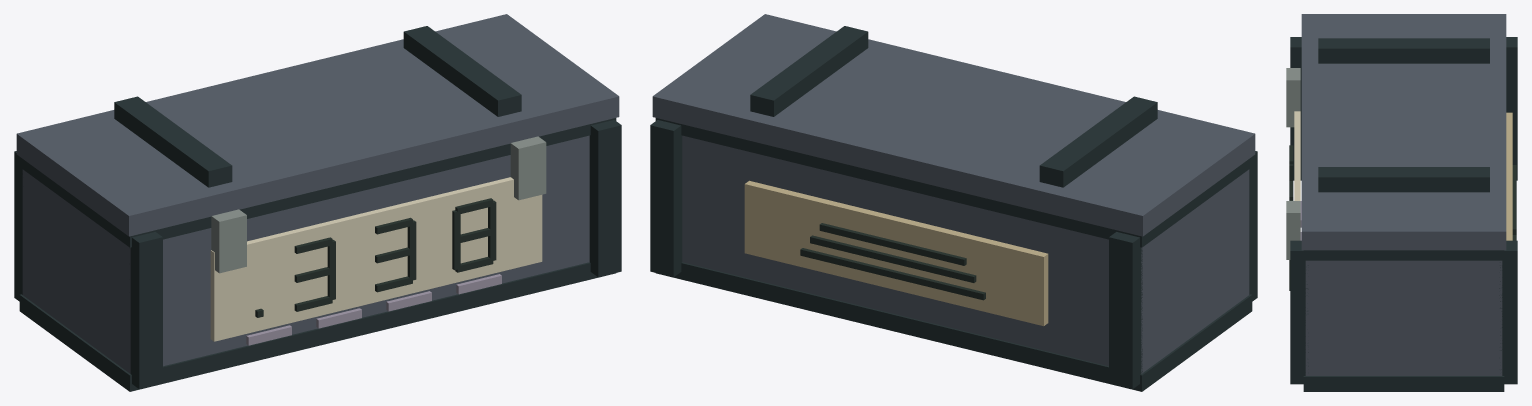
Rendered from FSA_AMMO_Pack_338.glb.
3 views of the same model, side by side, from view 1: azimuth 30°, elevation 25°; view 2: azimuth 150°, elevation 25°; view 3: azimuth 270°, elevation 25° (orthographic). The views are drawn at different scales.
Parts seen in each view (by area): view 1: ClosedLid, Package, LabelPlate, BaseSeam, LidSeam, CornerFront_1, CornerFront_-1, TopRib_-1, TopRib_1, Latch_1, Latch_-1, CornerBack_-1; view 2: ClosedLid, Package, RearPanel, BaseSeam, LidSeam, CornerBack_-1, CornerBack_1, TopRib_-1, TopRib_1, RearLine_0, RearLine_1, RearLine_2 (+1 smaller); view 3: ClosedLid, Package, TopRib_-1, TopRib_1, BaseSeam, CornerBack_1, CornerFront_1, LidSeam, CornerBack_-1, RearPanel, Latch_-1, CornerFront_-1 (+3 smaller).
Boxes of the visible parts, x1,y1,x2,y2 form: ClosedLid: (16,14,619,236); Package: (22,135,589,373); LabelPlate: (210,177,542,341); BaseSeam: (19,262,615,391); LidSeam: (19,118,616,247); CornerFront_1: (589,120,621,277); CornerFront_-1: (130,232,162,389); TopRib_-1: (114,96,232,187); TopRib_1: (403,26,521,116); Latch_1: (510,136,546,200); Latch_-1: (211,209,246,273); CornerBack_-1: (14,151,22,301); ClosedLid: (652,14,1255,236); Package: (682,135,1249,373); RearPanel: (744,180,1048,326); BaseSeam: (656,262,1252,391); LidSeam: (655,118,1252,247); CornerBack_-1: (1109,232,1142,389); CornerBack_1: (650,120,682,277); TopRib_-1: (1039,96,1157,187); TopRib_1: (750,26,868,116); RearLine_0: (800,248,985,300); RearLine_1: (810,235,976,282); RearLine_2: (819,223,966,265); ClosedLid: (1301,14,1506,250); Package: (1305,260,1502,375); TopRib_-1: (1318,38,1489,63); TopRib_1: (1318,167,1489,192); BaseSeam: (1303,376,1504,391); CornerBack_1: (1499,240,1517,384); CornerFront_1: (1290,240,1308,384); LidSeam: (1303,250,1504,260); CornerBack_-1: (1506,37,1517,180); RearPanel: (1506,112,1512,240); Latch_-1: (1286,68,1300,127); CornerFront_-1: (1290,37,1301,180).
Size of the model in its own units: 0.249 by 0.094 by 0.112.
